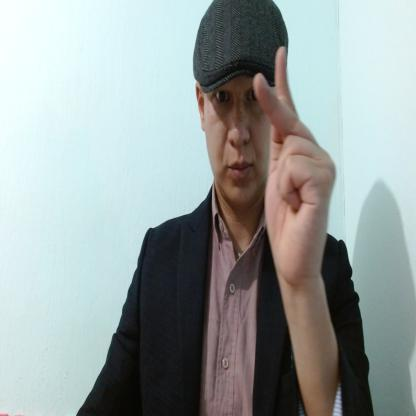P: (254, 42, 338, 280)
